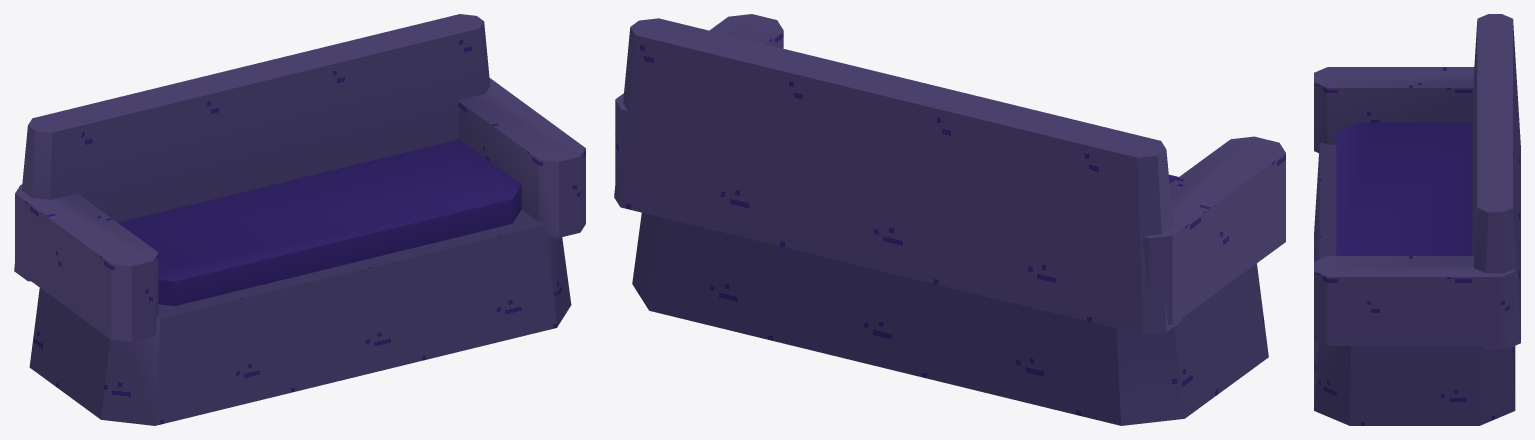
Rendered from cyroom.sofa.glb.
The picture shows the model from 3 angles, left to right: view 1: azimuth 30°, elevation 25°; view 2: azimuth 150°, elevation 25°; view 3: azimuth 270°, elevation 25°; orthographic projection. The views are drawn at different scales.
Parts seen in each view (by area): view 1: kit_body; view 2: kit_body; view 3: kit_body.
Part boxes in pixels (x1,y1,x2,y2): kit_body: [14, 14, 585, 425]; kit_body: [614, 14, 1285, 425]; kit_body: [1314, 14, 1520, 425].
Size of the model in its own units: 2.22 by 1.03 by 0.925.
Materials: 2 (2 with a texture image).
